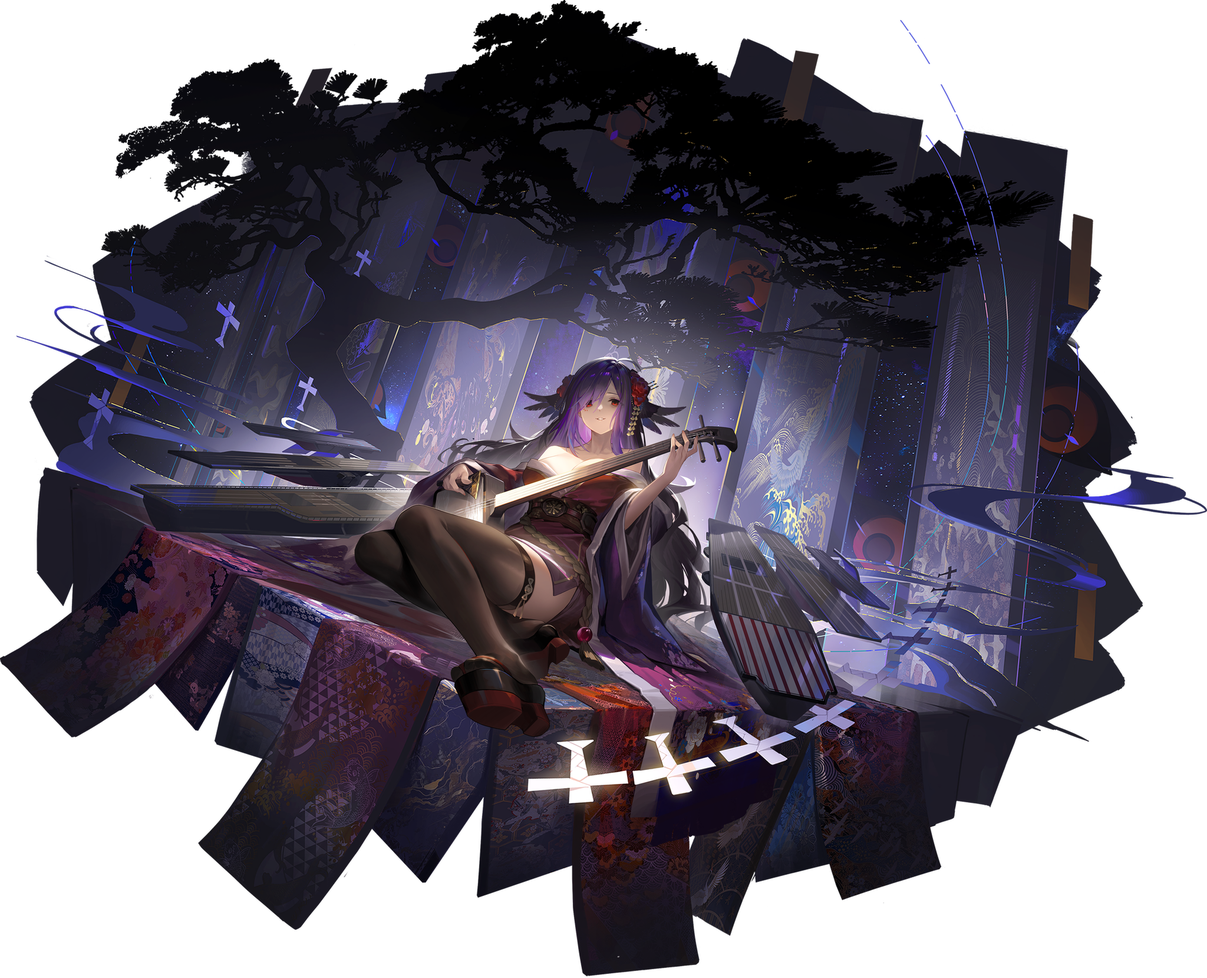person: (299, 320, 748, 826)
